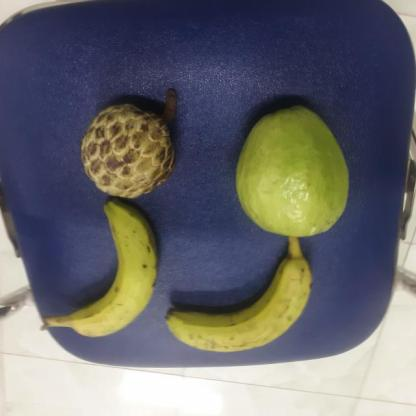annona: (78, 100, 183, 200)
banana: (164, 255, 314, 360), (68, 198, 165, 344)
guava: (232, 104, 352, 237)
